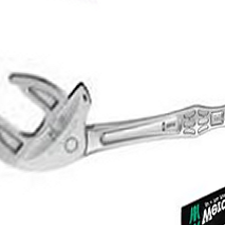Wrench: (1, 58, 225, 174)
